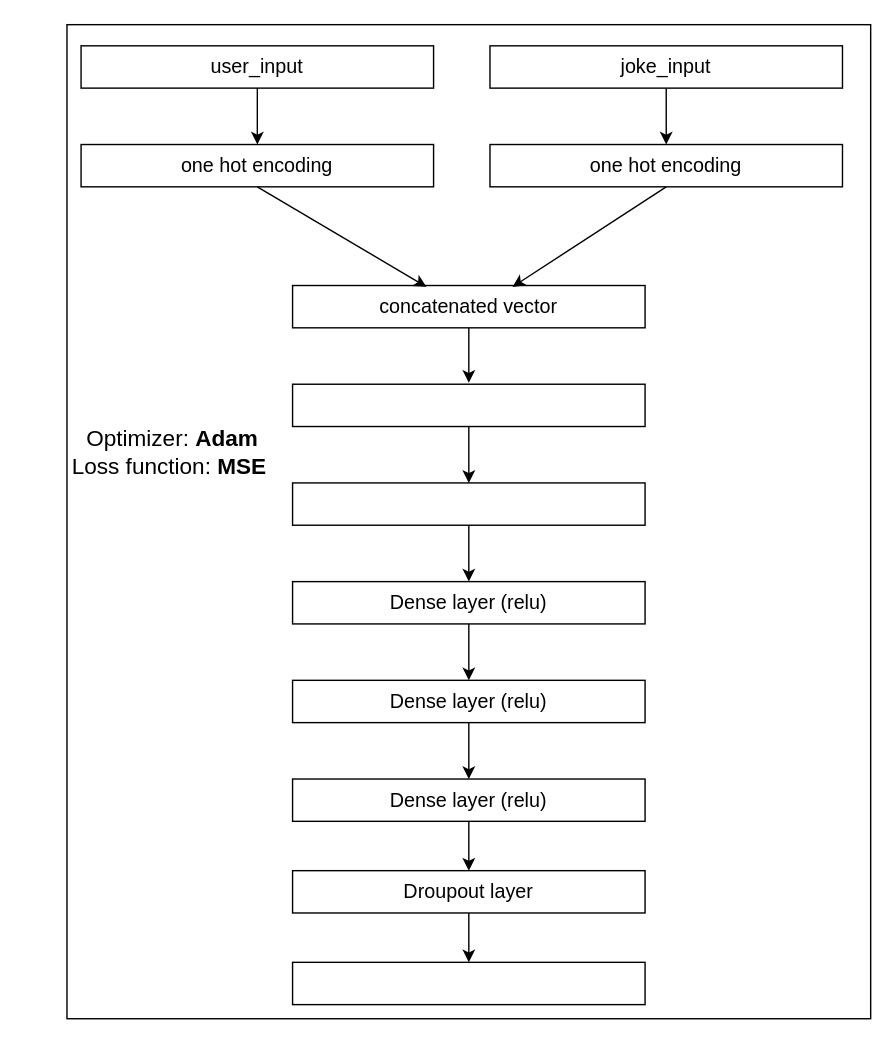
The diagram is 895 pixels wide and 1043 high, and some of its shapes have lost their labels. The shapes that lost their labels are listed below. From the top down, each one's centre as x and y in pixels, then its label:
At (468,405): "Embedding layer".
At (468,503): "Flatten layer".
At (468,983): "Output layer (tanh)".
